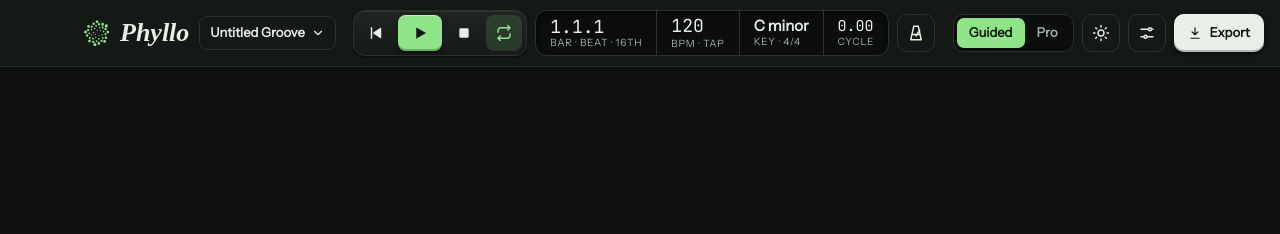
AppHeader › should list the project menu actions and close on Escape
Click the button "Untitled Groove". click: point(268, 33)
box: [199, 16, 336, 50]
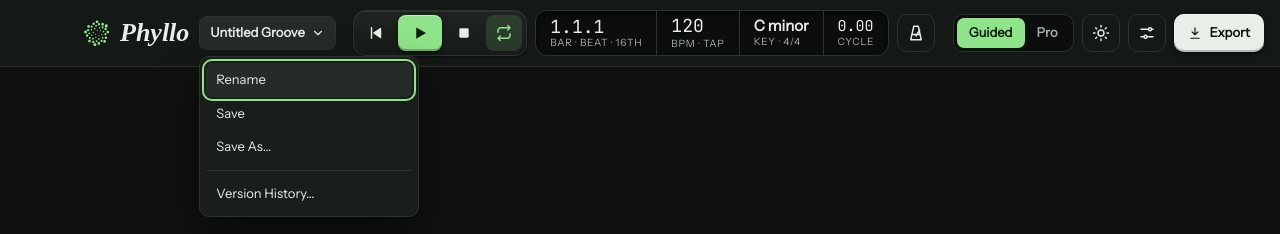
Expected: the menu items read "Rename", "Save", "Save As…", "Version History…", in this order, [206, 63, 412, 96]; [206, 96, 412, 130]; [206, 130, 412, 164]; [206, 177, 412, 210]
Press Escape
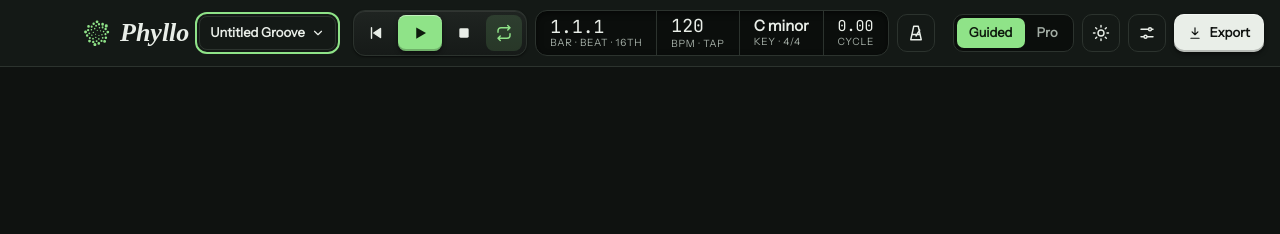
Expected: the menu is gone
